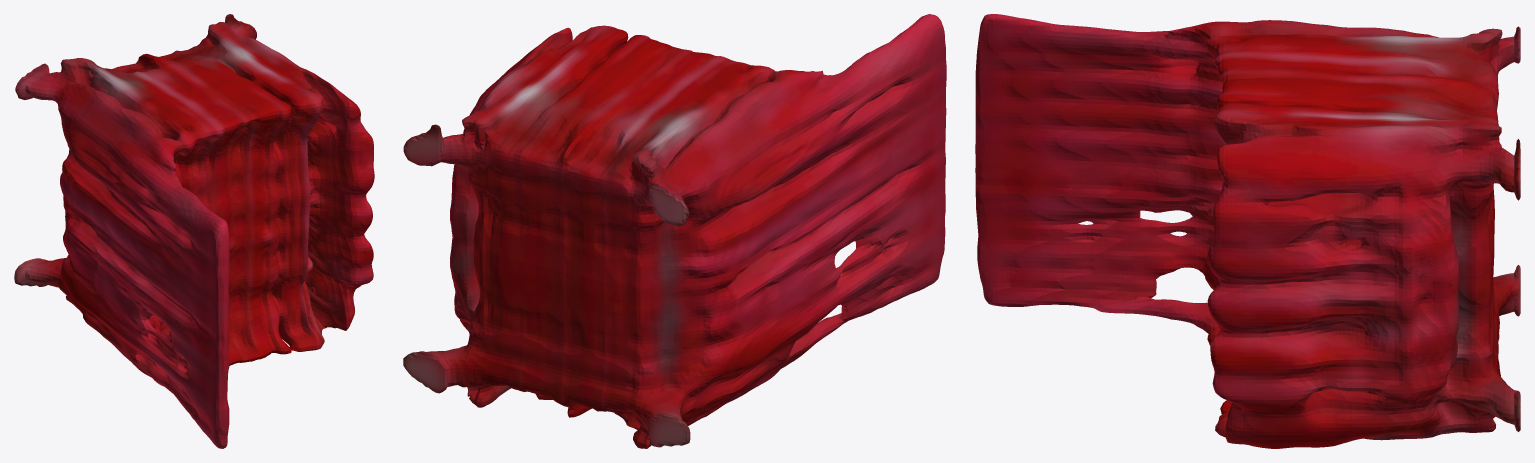
File: a_red_gaming_chair.0.glb
3 renders of one model, left to right at view 1: azimuth 30°, elevation 25°; view 2: azimuth 150°, elevation 25°; view 3: azimuth 270°, elevation 25°, orthographic. The views are drawn at different scales.
Parts seen in each view (by area): view 1: a_red_gaming_chair.0.obj; view 2: a_red_gaming_chair.0.obj; view 3: a_red_gaming_chair.0.obj.
Part boxes in pixels (x1,y1,x2,y2): a_red_gaming_chair.0.obj: (14, 14, 374, 448); a_red_gaming_chair.0.obj: (403, 14, 946, 448); a_red_gaming_chair.0.obj: (975, 14, 1520, 448).
Bounding box in the file's own units: 1.35 × 1.29 × 1.98.
